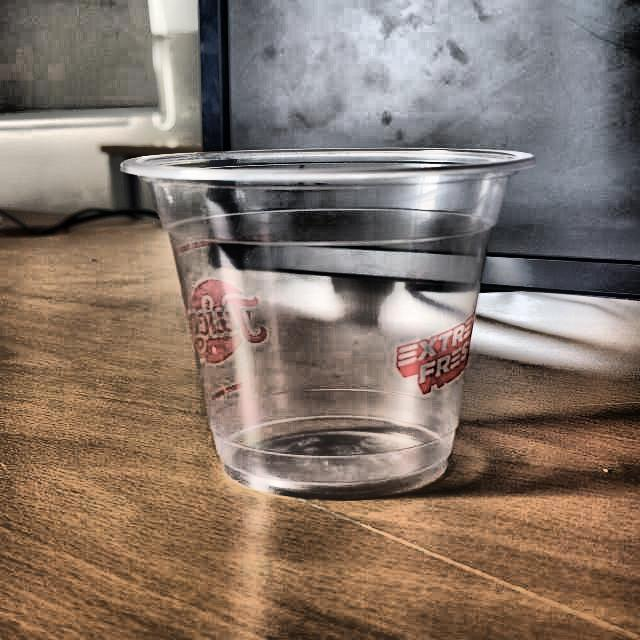plastic cup: (119, 148, 528, 496)
